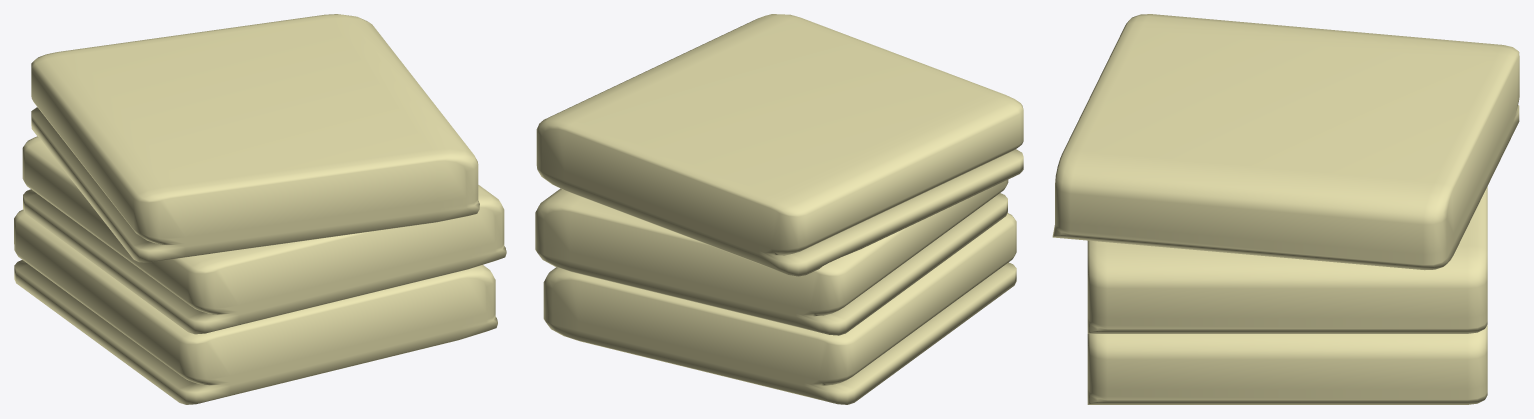
File: stackOfTowels.fbx
3 views of the same model, side by side, from view 1: azimuth 30°, elevation 25°; view 2: azimuth 150°, elevation 25°; view 3: azimuth 270°, elevation 25° (orthographic). The views are drawn at different scales.
Visible parts, largest first — view 1: Stack of Towels; view 2: Stack of Towels; view 3: Stack of Towels.
Boxes of the visible parts, bbox=[...] form: Stack of Towels: bbox=[14, 14, 506, 404]; Stack of Towels: bbox=[535, 14, 1023, 404]; Stack of Towels: bbox=[1052, 14, 1519, 404].
Bounding box in the file's own units: 47.52 × 47.73 × 25.26.
